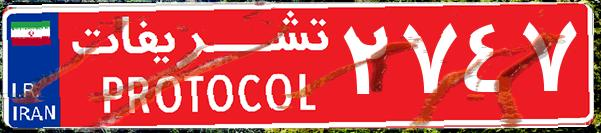2: (340, 20, 400, 115)
4: (460, 20, 520, 115)
7: (400, 20, 460, 115), (520, 20, 580, 115)
تشریفات: (60, 8, 340, 125)
